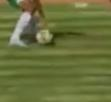ball: (34, 27, 55, 47)
